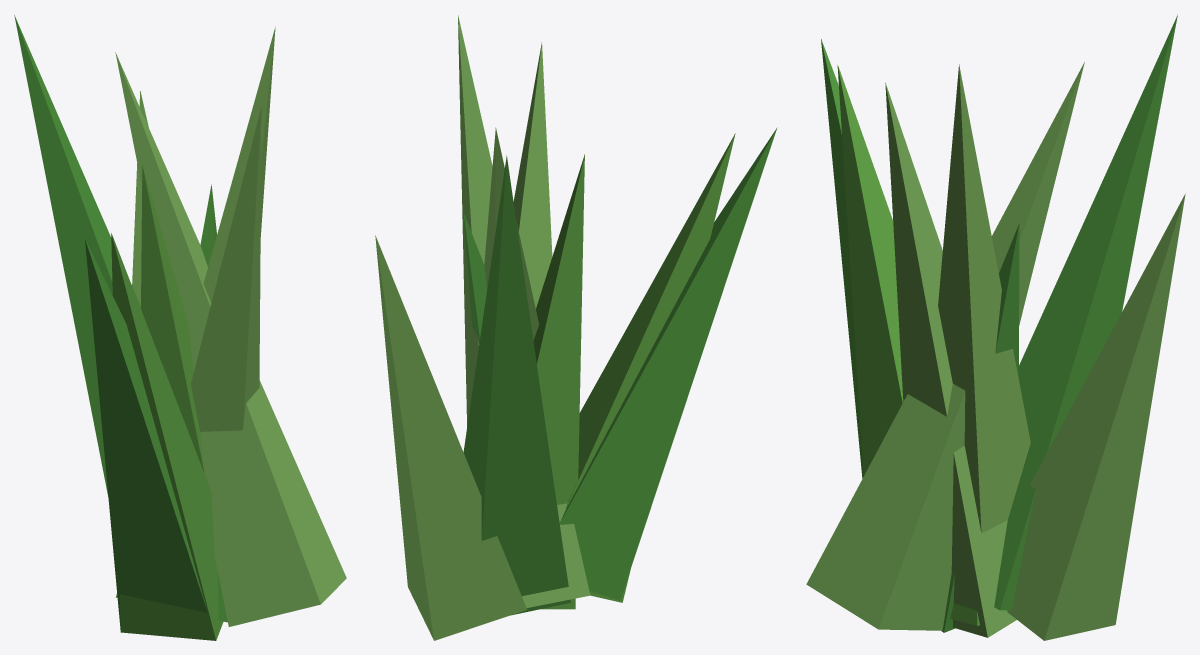
Rendered from grass_tuft_c.fbx.
3 views of the same model, side by side, from view 1: azimuth 30°, elevation 25°; view 2: azimuth 150°, elevation 25°; view 3: azimuth 270°, elevation 25° (orthographic). The views are drawn at different scales.
Parts seen in each view (by area): view 1: grass_tuft_c; view 2: grass_tuft_c; view 3: grass_tuft_c.
Part boxes in pixels (x1=…): grass_tuft_c: x1=14, y1=15, x2=346, y2=640; grass_tuft_c: x1=375, y1=15, x2=777, y2=640; grass_tuft_c: x1=806, y1=14, x2=1185, y2=640.
Size of the model in its own units: 0.104 by 0.1947 by 0.114.
